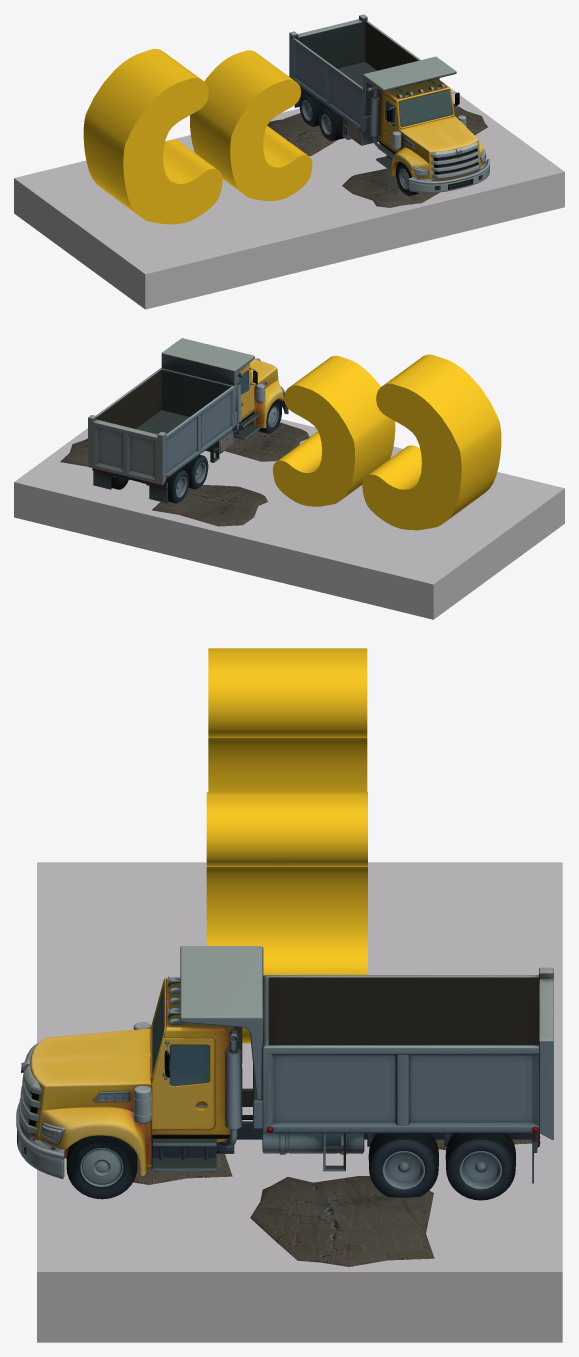
File: Cc_camion_anim.fbx
The picture shows the model from 3 angles, top to bottom: view 1: azimuth 30°, elevation 25°; view 2: azimuth 150°, elevation 25°; view 3: azimuth 270°, elevation 25°; orthographic projection. The views are drawn at different scales.
Visible parts, largest first — view 1: root.001, node_id62, node_id45, node_id55, node_id76, node_id68, node_id84; view 2: root.001, node_id62, node_id45, node_id55, node_id68, node_id76, node_id84; view 3: root.001, node_id62, node_id55, node_id45, node_id84, node_id76.
Boxes of the visible parts, x1=… form: root.001: x1=14, y1=88, x2=564, y2=309; node_id62: x1=289, y1=14, x2=490, y2=196; node_id45: x1=83, y1=49, x2=222, y2=224; node_id55: x1=190, y1=50, x2=312, y2=200; node_id76: x1=342, y1=168, x2=439, y2=207; node_id68: x1=267, y1=113, x2=337, y2=156; node_id84: x1=453, y1=103, x2=487, y2=135; root.001: x1=14, y1=419, x2=564, y2=619; node_id62: x1=88, y1=338, x2=288, y2=503; node_id45: x1=362, y1=354, x2=501, y2=530; node_id55: x1=272, y1=355, x2=395, y2=506; node_id68: x1=152, y1=485, x2=267, y2=526; node_id76: x1=225, y1=422, x2=309, y2=461; node_id84: x1=60, y1=438, x2=87, y2=466; root.001: x1=37, y1=862, x2=562, y2=1342; node_id62: x1=16, y1=946, x2=553, y2=1200; node_id55: x1=206, y1=792, x2=367, y2=1043; node_id45: x1=208, y1=648, x2=367, y2=792; node_id84: x1=250, y1=1176, x2=434, y2=1266; node_id76: x1=133, y1=1154, x2=232, y2=1184.
Size of the model in its own units: 709 by 288 by 400.
